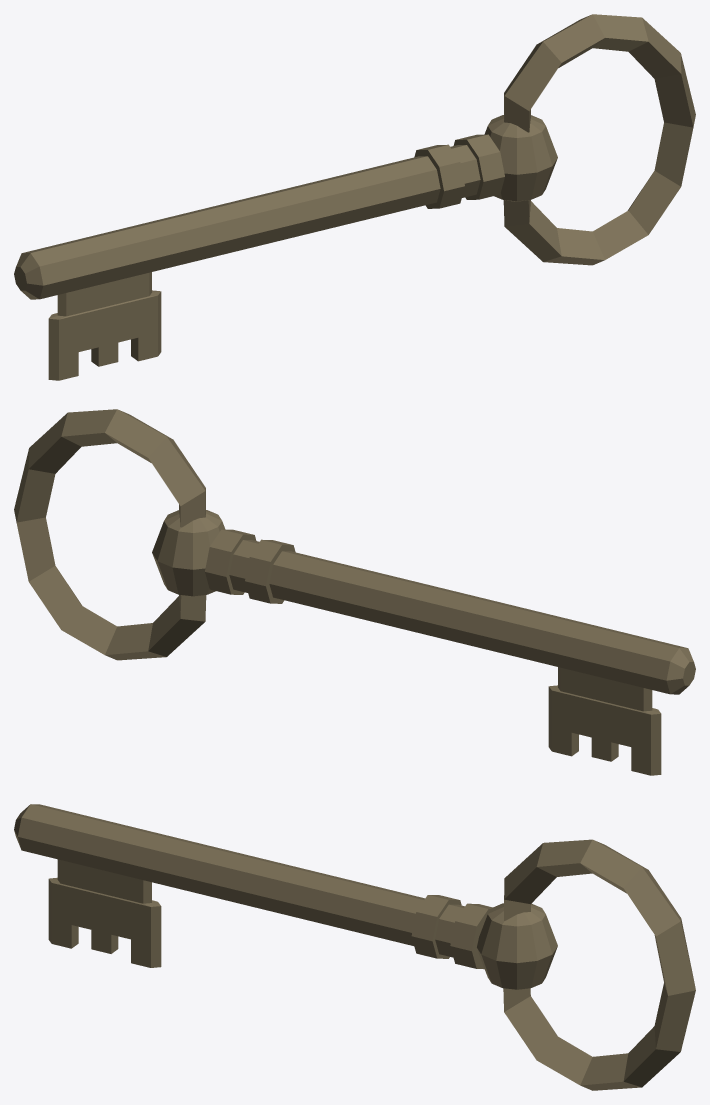
File: llave.fbx
3 views of the same model, one above another, from view 1: azimuth 30°, elevation 25°; view 2: azimuth 150°, elevation 25°; view 3: azimuth 330°, elevation 25° (orthographic).
Visible parts, largest first — view 1: Llave; view 2: Llave; view 3: Llave.
Boxes of the visible parts, x1,y1,x2,y2 form: Llave: (14, 14, 695, 380); Llave: (14, 409, 695, 775); Llave: (14, 804, 695, 1090).
Size of the model in its own units: 60.53 by 21.52 by 6.39.
